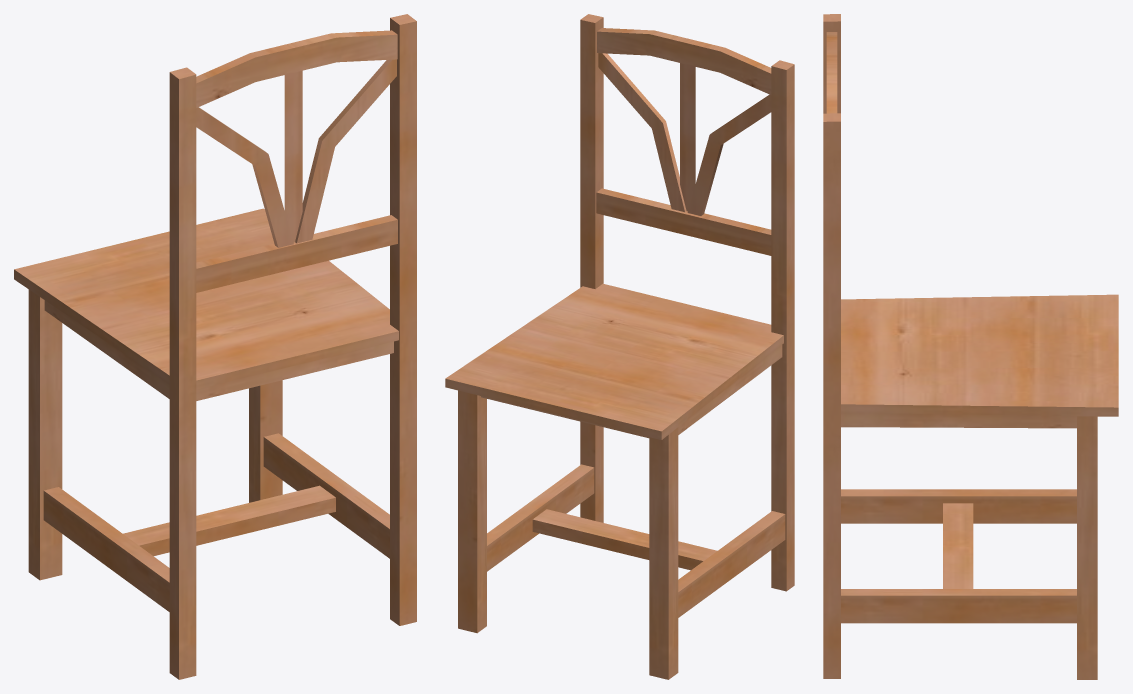
File: Chair_13.glb
3 views of the same model, side by side, from view 1: azimuth 30°, elevation 25°; view 2: azimuth 150°, elevation 25°; view 3: azimuth 270°, elevation 25° (orthographic). The views are drawn at different scales.
Parts seen in each view (by area): view 1: Chair_13; view 2: Chair_13; view 3: Chair_13.
Part boxes in pixels (x1=…): Chair_13: x1=14, y1=14, x2=416, y2=679; Chair_13: x1=445, y1=14, x2=794, y2=679; Chair_13: x1=823, y1=14, x2=1118, y2=679.
Size of the model in its own units: 0.4706 by 1.08 by 0.52.
Materials: 1 (1 with a texture image).
